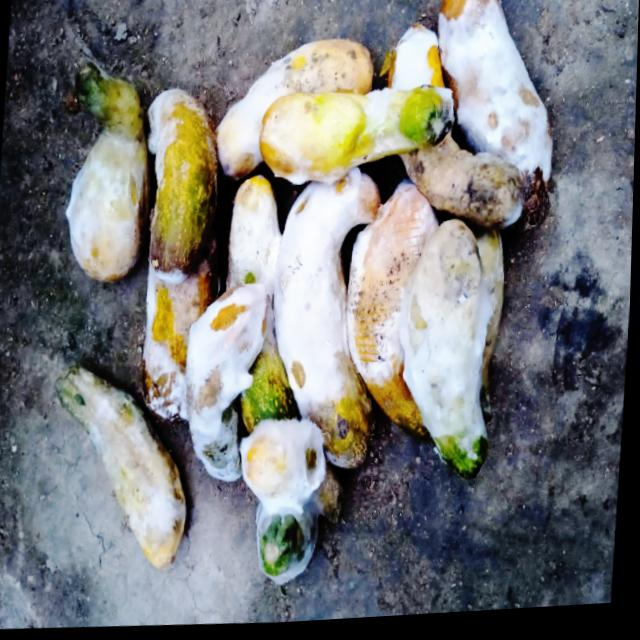Pythium-Fruit-Rot: (45, 0, 566, 610)
